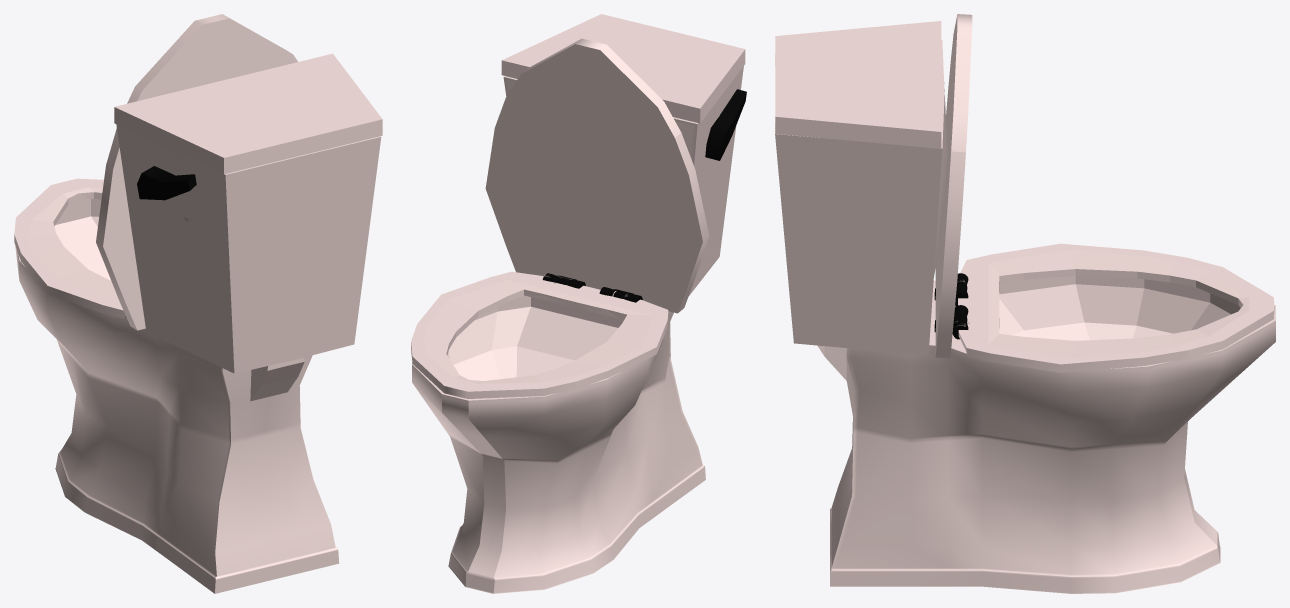
Rendered from Paintable_Toilet.fbx.
3 renders of one model, left to right at view 1: azimuth 30°, elevation 25°; view 2: azimuth 150°, elevation 25°; view 3: azimuth 270°, elevation 25°, orthographic. The views are drawn at different scales.
Parts seen in each view (by area): view 1: Paintable_Toilet_LOD0; view 2: Paintable_Toilet_LOD0; view 3: Paintable_Toilet_LOD0.
Boxes of the visible parts, x1,y1,x2,y2 form: Paintable_Toilet_LOD0: [14, 14, 382, 593]; Paintable_Toilet_LOD0: [411, 14, 746, 593]; Paintable_Toilet_LOD0: [775, 14, 1275, 593].
Size of the model in its own units: 0.6425 by 1.12 by 1.31.
